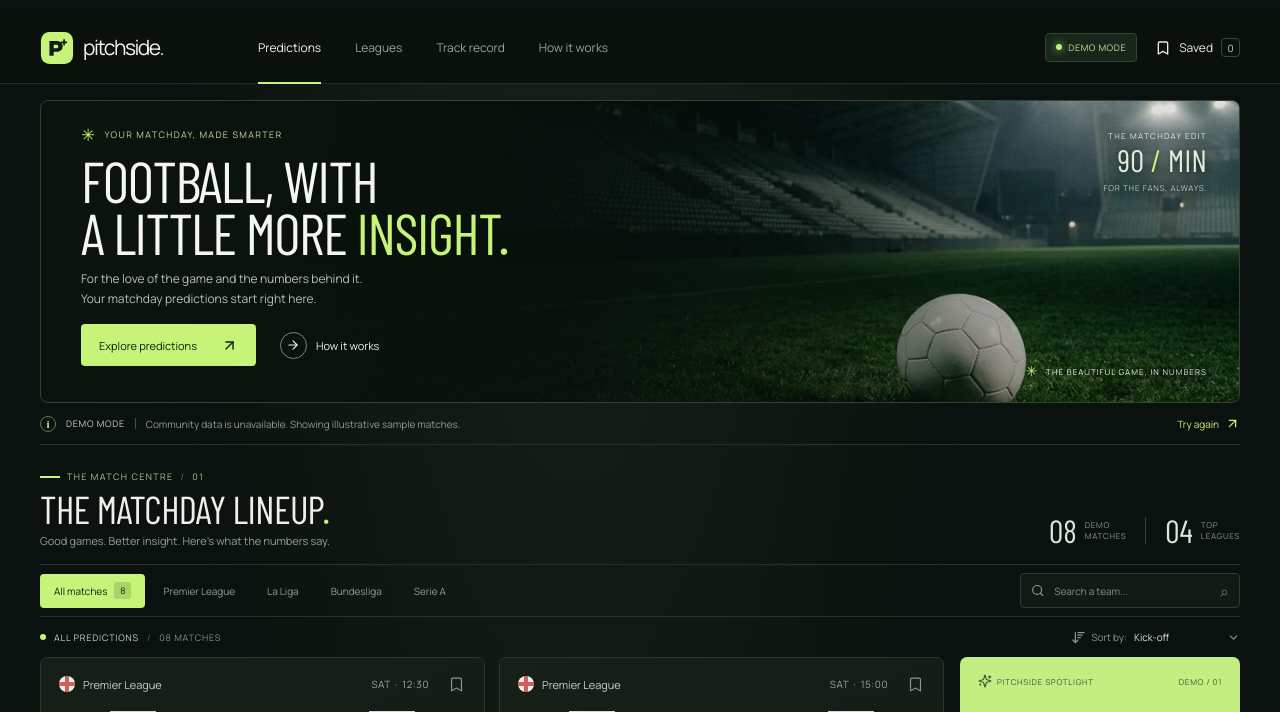
Test: clearly falls back to demo data and can retry the community feed
The image size is (1280, 712).
Expected: the text "Community data is unavailable" is shown, [146,416,460,430]
Click the button "Try again": click(1209, 424) [1177,416,1240,431]
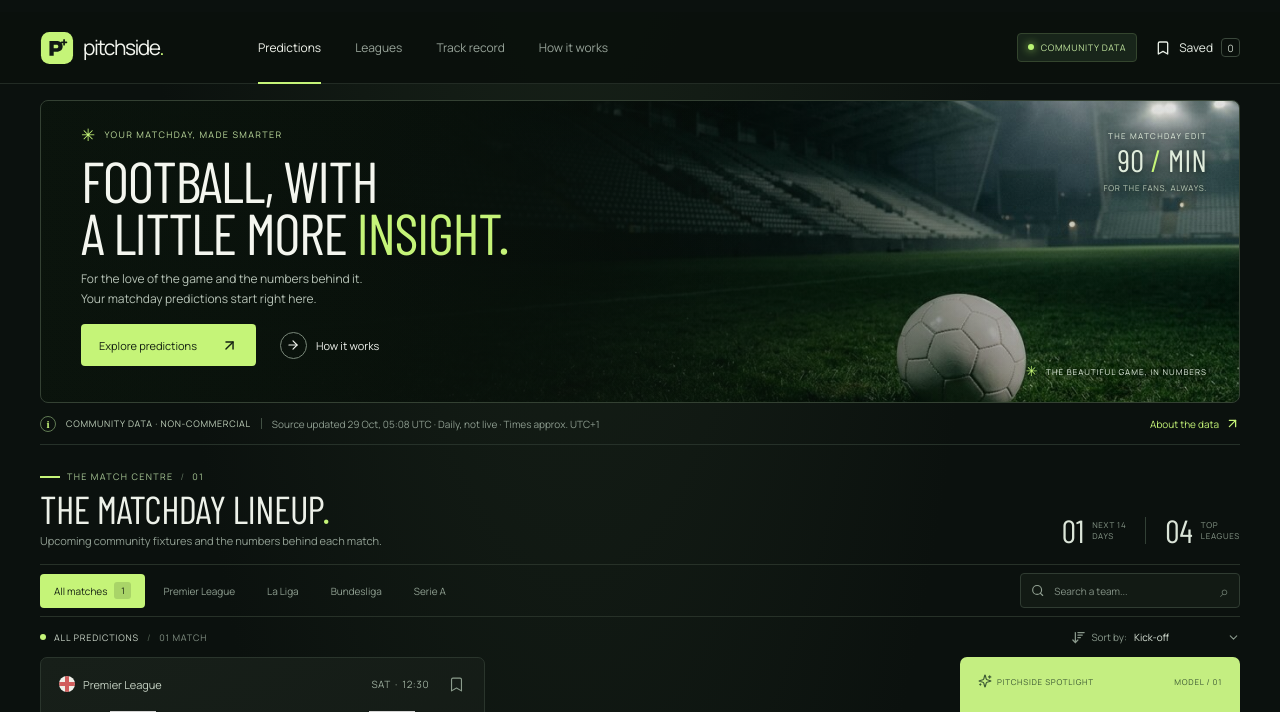
Expected: the text "COMMUNITY DATA · NON-COMMERCIAL" is shown, [66,417,251,430]
